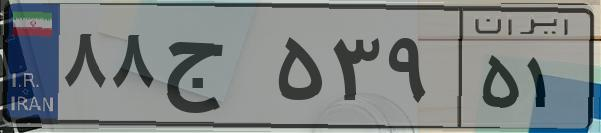1: (525, 38, 570, 115)
3: (330, 28, 385, 110)
5: (270, 28, 330, 110), (475, 38, 525, 113)
8: (57, 26, 110, 100), (110, 28, 158, 98)
9: (385, 28, 445, 110)
ج: (158, 20, 270, 120)
